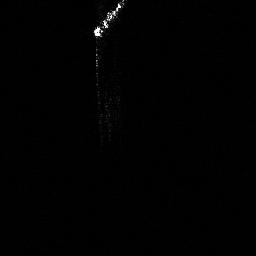ship: (91, 1, 128, 40)
